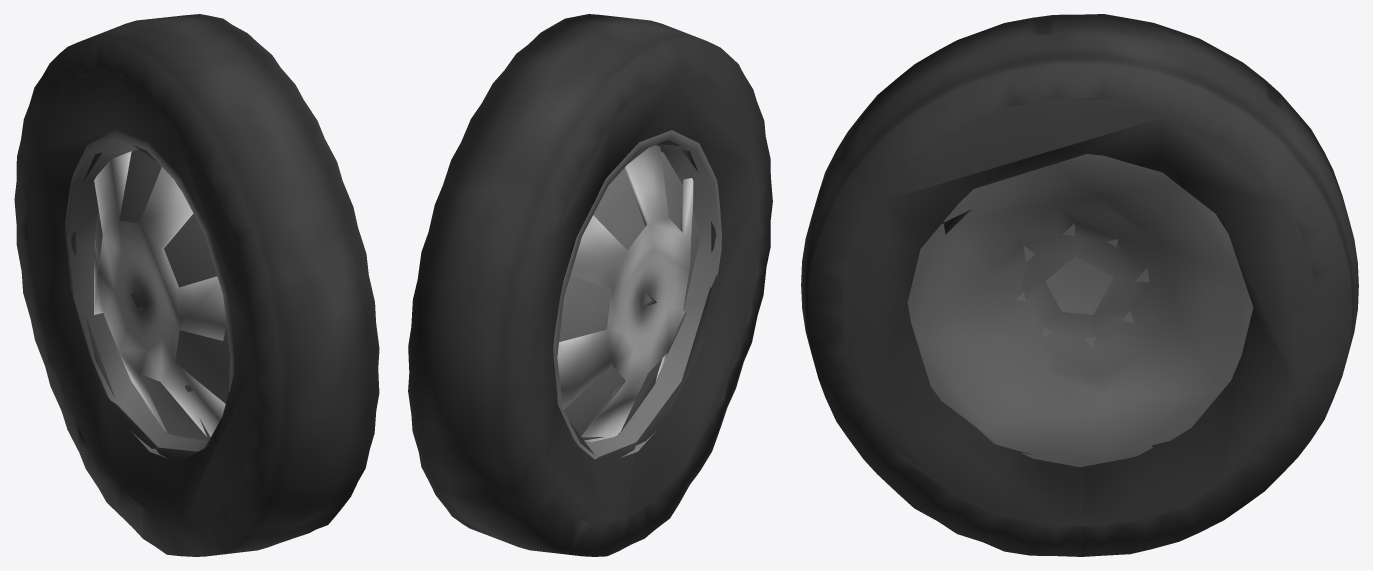
File: OT_wheel_front_d1.obj
The picture shows the model from 3 angles, left to right: view 1: azimuth 30°, elevation 25°; view 2: azimuth 150°, elevation 25°; view 3: azimuth 270°, elevation 25°; orthographic projection. The views are drawn at different scales.
Visible parts, largest first — view 1: OT_wheel_front; view 2: OT_wheel_front; view 3: OT_wheel_front.
Part boxes in pixels (<box>): OT_wheel_front: <box>14,14,379,556</box>; OT_wheel_front: <box>408,14,772,556</box>; OT_wheel_front: <box>801,14,1358,556</box>.
Bounding box in the file's own units: 0.2513 × 0.9874 × 0.9871.
Materials: 1 (1 with a texture image).
